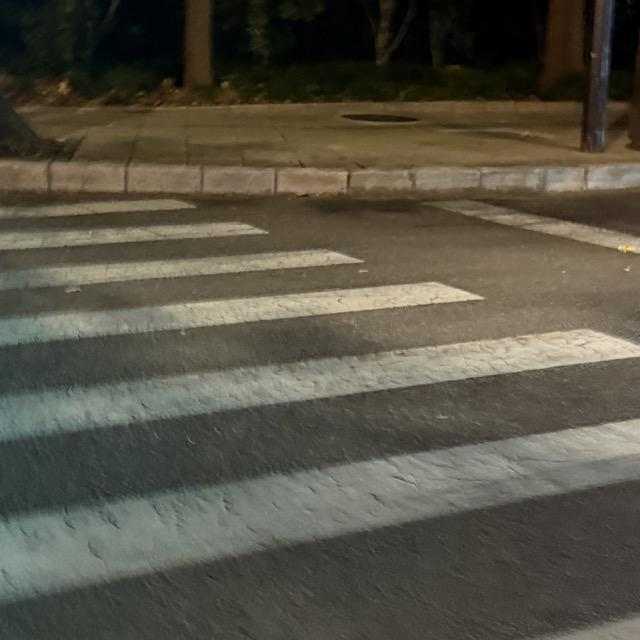curb: (0, 160, 639, 195)
